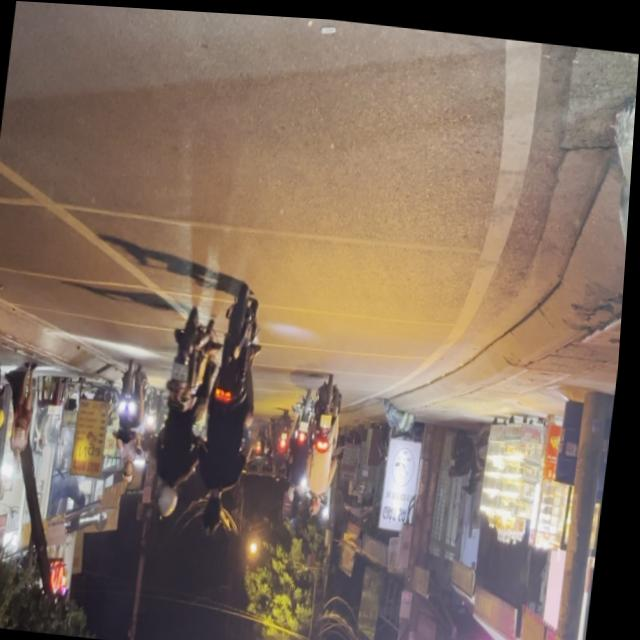licenseplate: (191, 272, 278, 538)
motorcyclist: (206, 486, 232, 532)
